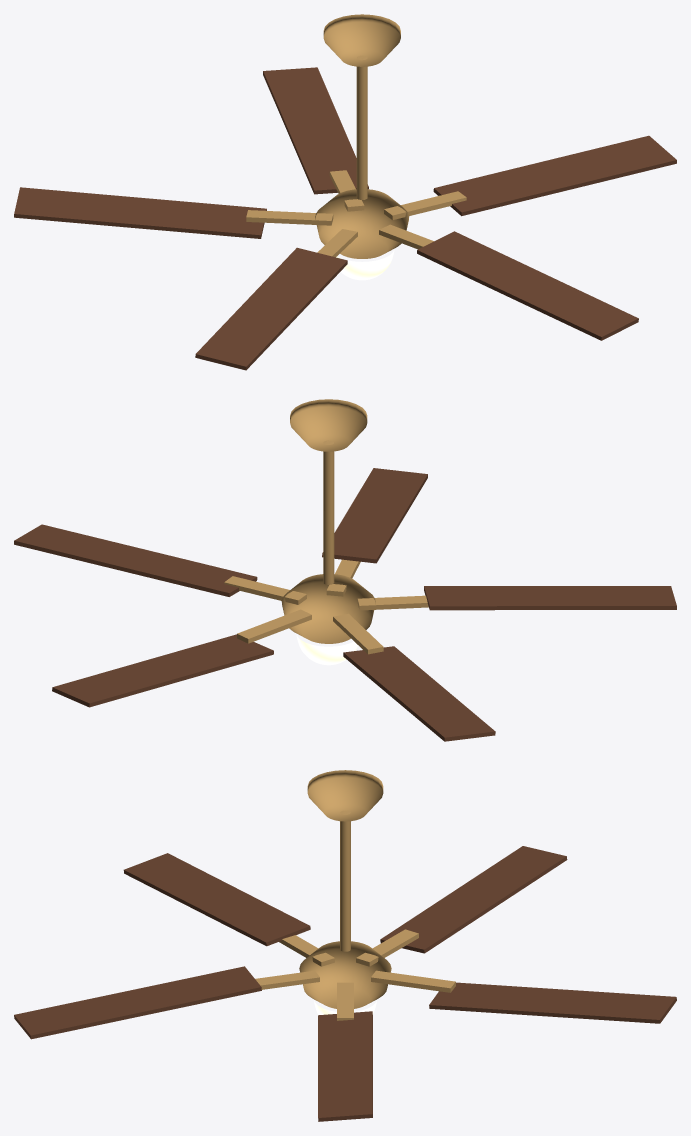
Rendered from fan.glb.
3 renders of one model, top to bottom at view 1: azimuth 30°, elevation 25°; view 2: azimuth 150°, elevation 25°; view 3: azimuth 270°, elevation 25°, orthographic. The views are drawn at different scales.
Visible parts, largest first — view 1: Rotor_FanBlade, Rotor_FanBrass, FanMount_FanBrass, Rotor_FanBowl; view 2: Rotor_FanBlade, Rotor_FanBrass, FanMount_FanBrass, Rotor_FanBowl; view 3: Rotor_FanBlade, Rotor_FanBrass, FanMount_FanBrass.
Boxes of the visible parts, x1,y1,x2,y2 form: Rotor_FanBlade: (14, 67, 676, 370); Rotor_FanBrass: (246, 170, 466, 258); FanMount_FanBrass: (323, 14, 400, 199); Rotor_FanBowl: (336, 249, 394, 280); Rotor_FanBlade: (14, 468, 676, 741); Rotor_FanBrass: (224, 559, 428, 654); FanMount_FanBrass: (290, 399, 367, 584); Rotor_FanBowl: (296, 634, 358, 665); Rotor_FanBlade: (14, 846, 676, 1121); Rotor_FanBrass: (255, 929, 455, 1020); FanMount_FanBrass: (307, 770, 383, 951).
Size of the model in its own units: 1.5 by 0.635 by 1.58.
